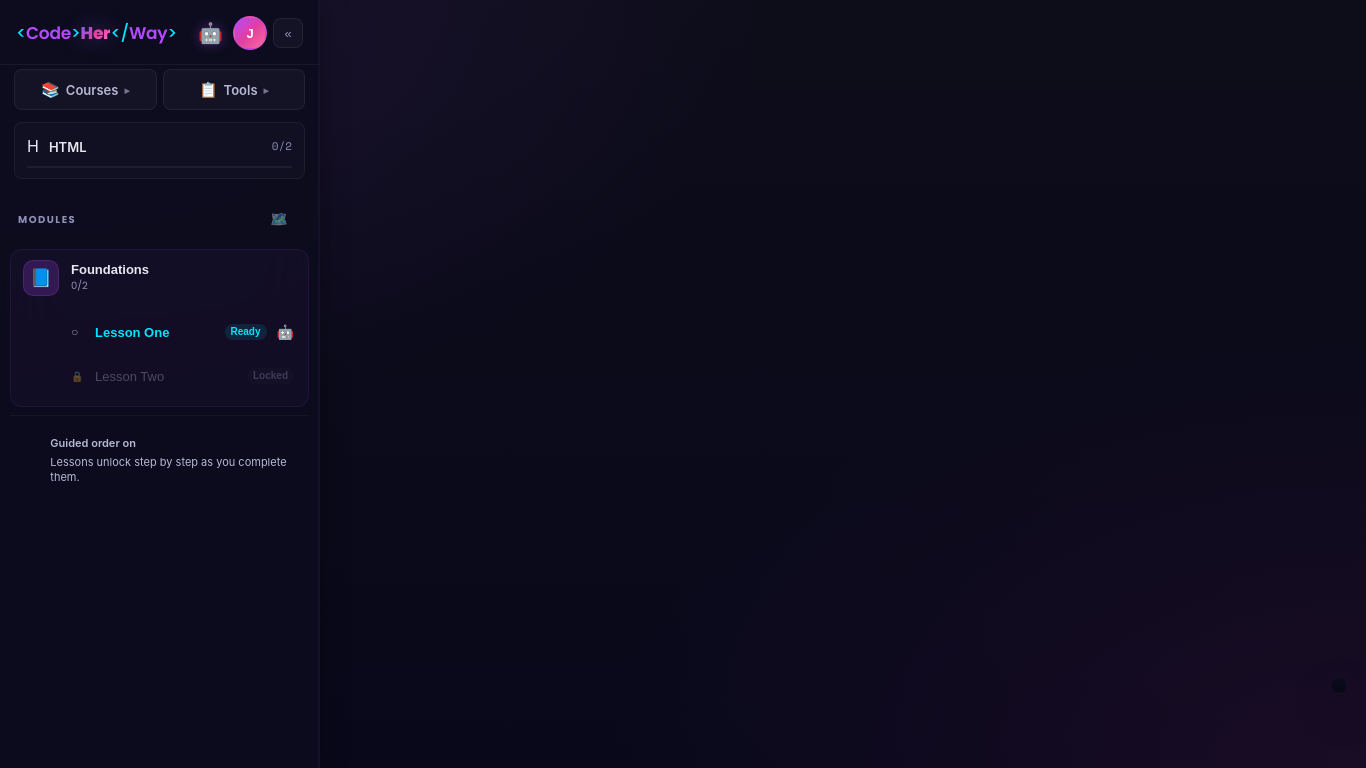
it: Sidebar › keeps hidden chrome from intercepting sidebar tab clicks
Click the button "📋 Tools ▸". click: (234, 90)
box: [162, 69, 305, 110]
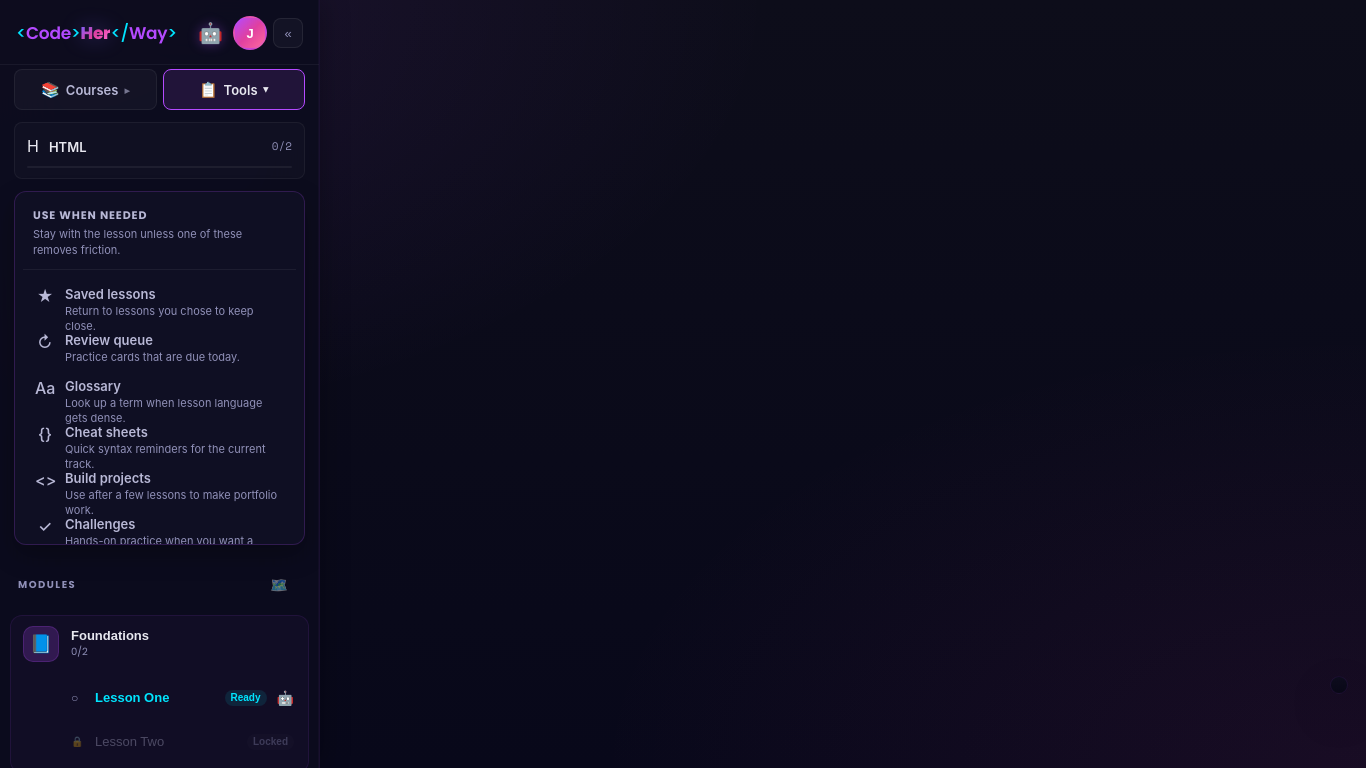
Check: the button "📋 Tools ▸" is expanded, box [162, 69, 305, 110]
Check: the menu named "tools" is shown, box [14, 191, 305, 545]
